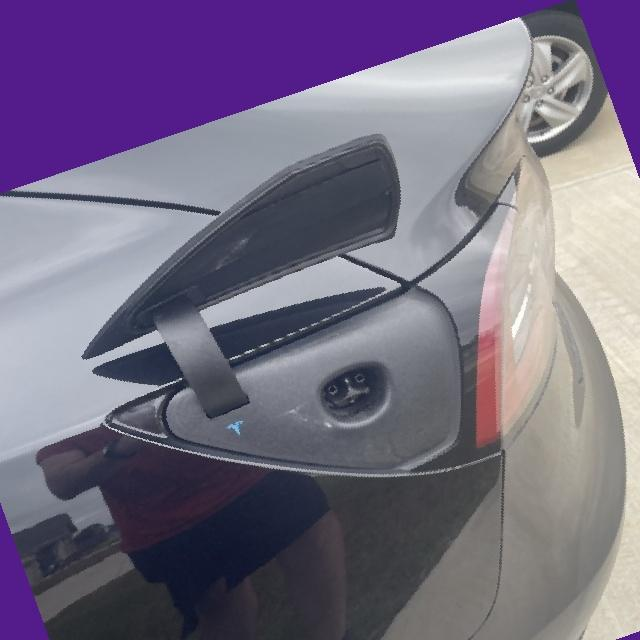Tesla Model-S-: (309, 352, 402, 440)
